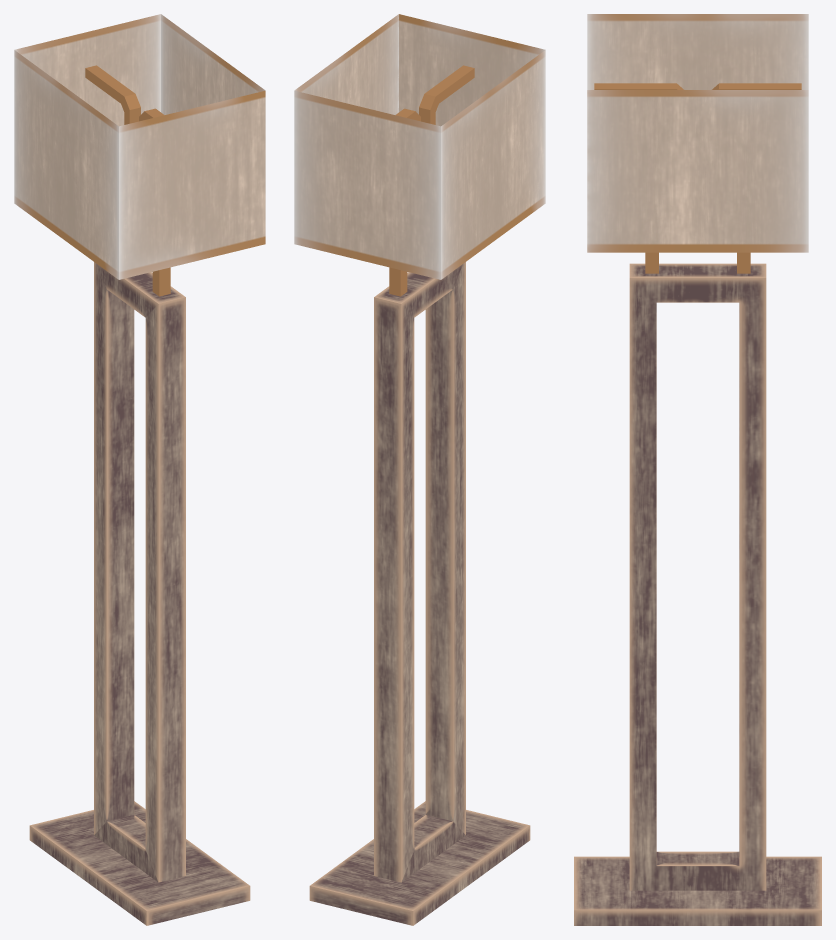
File: lightStand2.glb
The picture shows the model from 3 angles, left to right: view 1: azimuth 30°, elevation 25°; view 2: azimuth 150°, elevation 25°; view 3: azimuth 270°, elevation 25°; orthographic projection. The views are drawn at different scales.
Parts seen in each view (by area): view 1: Object_62; view 2: Object_62; view 3: Object_62.
Boxes of the visible parts, x1,y1,x2,y2 form: Object_62: (14, 14, 265, 925); Object_62: (294, 14, 545, 925); Object_62: (574, 14, 821, 925).
Bounding box in the file's own units: 2.29 × 11.92 × 3.16.
Materials: 1 (1 with a texture image).
